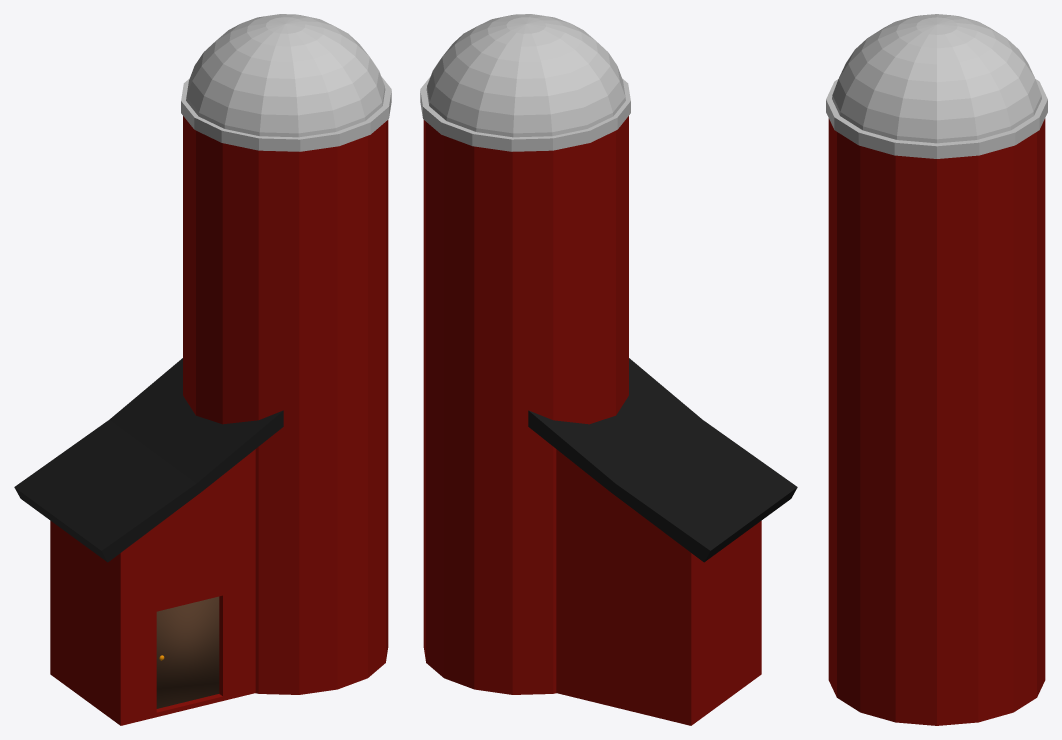
The model's file is Barn_Extra_1.fbx.
The picture shows the model from 3 angles, left to right: view 1: azimuth 30°, elevation 25°; view 2: azimuth 150°, elevation 25°; view 3: azimuth 270°, elevation 25°; orthographic projection. The views are drawn at different scales.
Parts seen in each view (by area): view 1: Cube.020; view 2: Cube.020; view 3: Cube.020.
Part boxes in pixels (<box>): Cube.020: <box>14,14,391,725</box>; Cube.020: <box>420,14,797,725</box>; Cube.020: <box>826,14,1047,725</box>.
Bounding box in the file's own units: 1238 × 2317 × 711.
